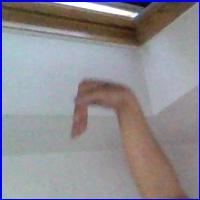A: (65, 79, 140, 146)
